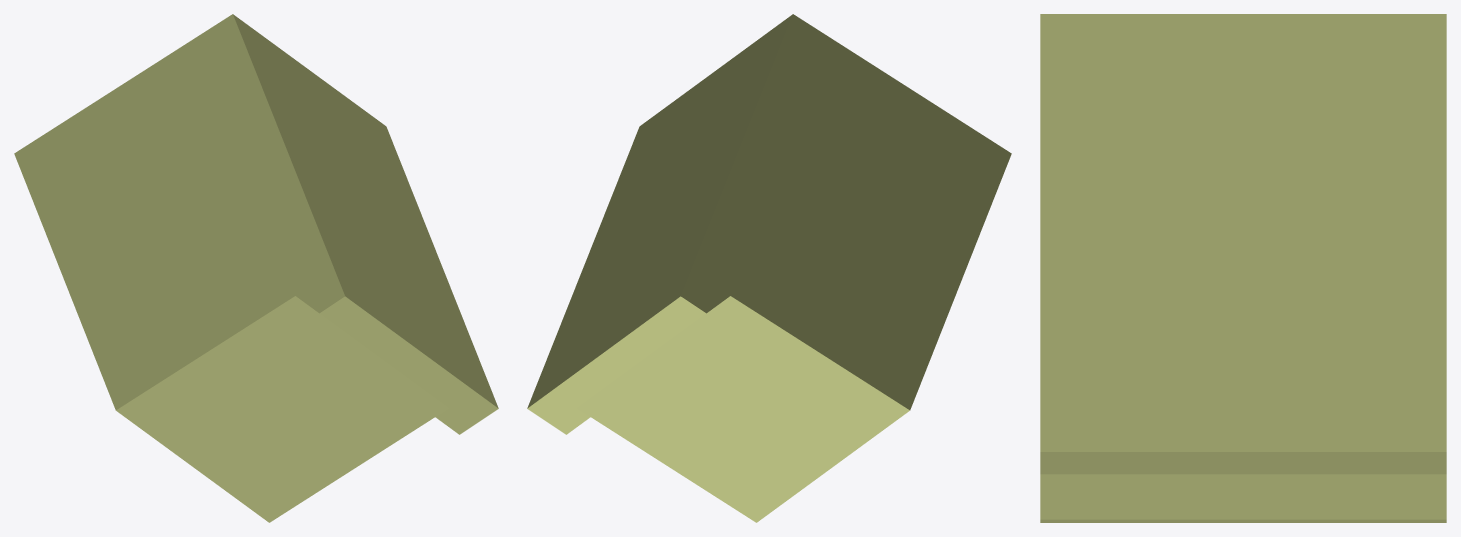
3 views of the same model, side by side, from view 1: azimuth 30°, elevation 25°; view 2: azimuth 150°, elevation 25°; view 3: azimuth 270°, elevation 25° (orthographic). The views are drawn at different scales.
Visible parts, largest first — view 1: 0_1_0_2_1_3_2_1_1_0; view 2: 0_1_0_2_1_3_2_1_1_0; view 3: 0_1_0_2_1_3_2_1_1_0.
Boxes of the visible parts, box(x1,y1,x2,y2) form: 0_1_0_2_1_3_2_1_1_0: box(14, 14, 498, 522); 0_1_0_2_1_3_2_1_1_0: box(527, 14, 1011, 522); 0_1_0_2_1_3_2_1_1_0: box(1040, 14, 1446, 522).
Bounding box in the file's own units: 11.2 × 11.9 × 9.
